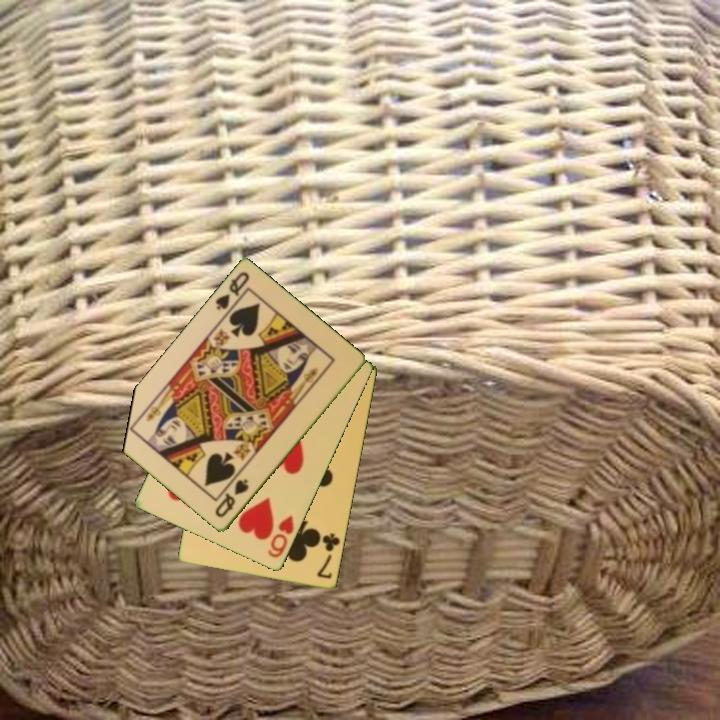6h: (264, 512, 297, 561)
7c: (314, 530, 343, 582)
Qs: (211, 475, 252, 521), (212, 268, 252, 313)
